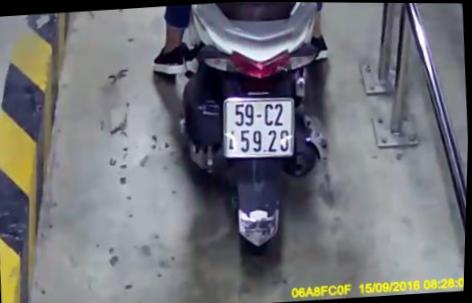LP: (219, 91, 300, 162)
